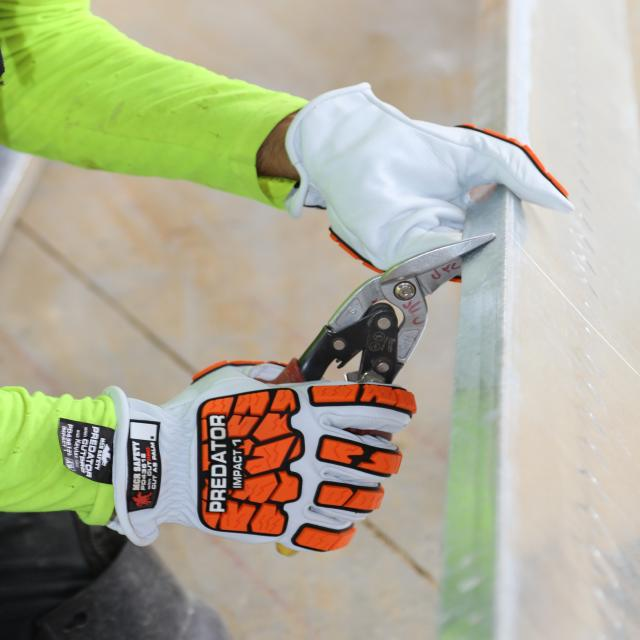gloves: (280, 80, 578, 288), (102, 358, 420, 550)
